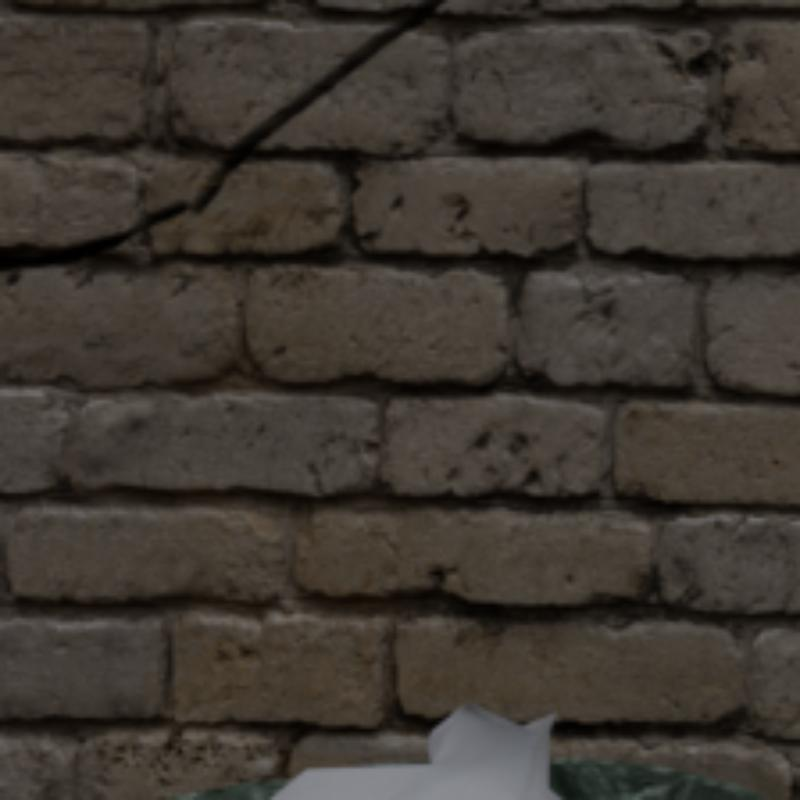crack: (0, 0, 443, 268)
